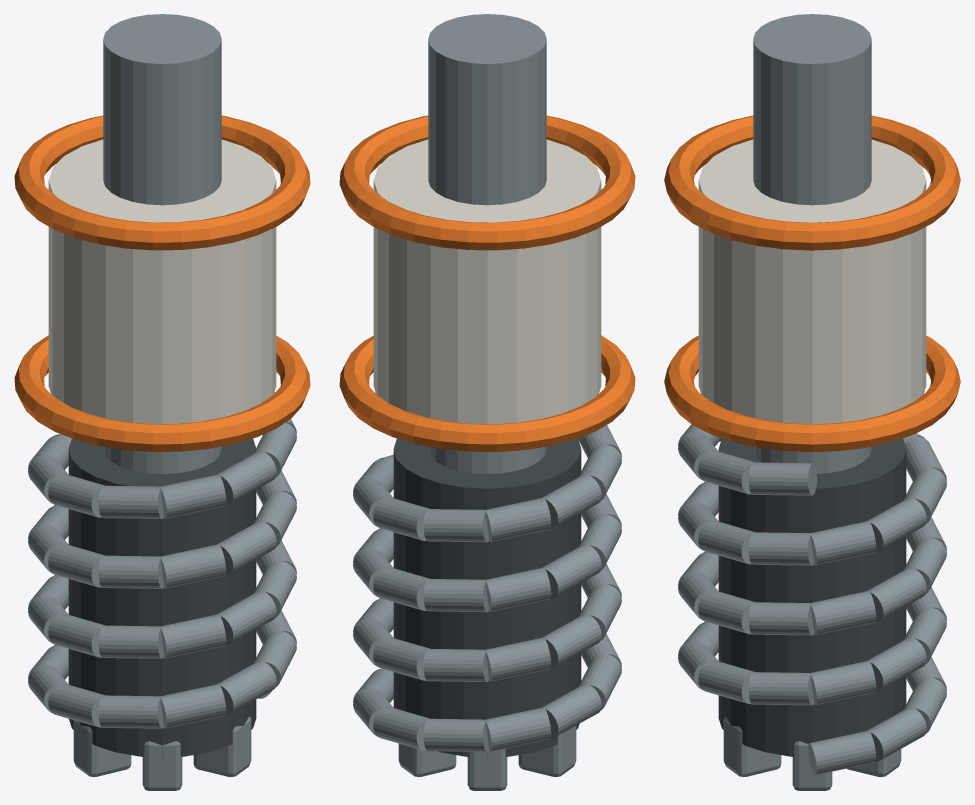
The model's file is SM_SilicaExtractor_Drill.fbx.
3 renders of one model, left to right at view 1: azimuth 30°, elevation 25°; view 2: azimuth 150°, elevation 25°; view 3: azimuth 270°, elevation 25°, orthographic.
Visible parts, largest first — view 1: SM_SilicaExtractor_Drill.001; view 2: SM_SilicaExtractor_Drill.001; view 3: SM_SilicaExtractor_Drill.001.
Part boxes in pixels (x1,y1,x2,y2): SM_SilicaExtractor_Drill.001: [14, 14, 310, 790]; SM_SilicaExtractor_Drill.001: [339, 14, 635, 790]; SM_SilicaExtractor_Drill.001: [664, 14, 960, 790].
Size of the model in its own units: 60 by 60 by 160.
